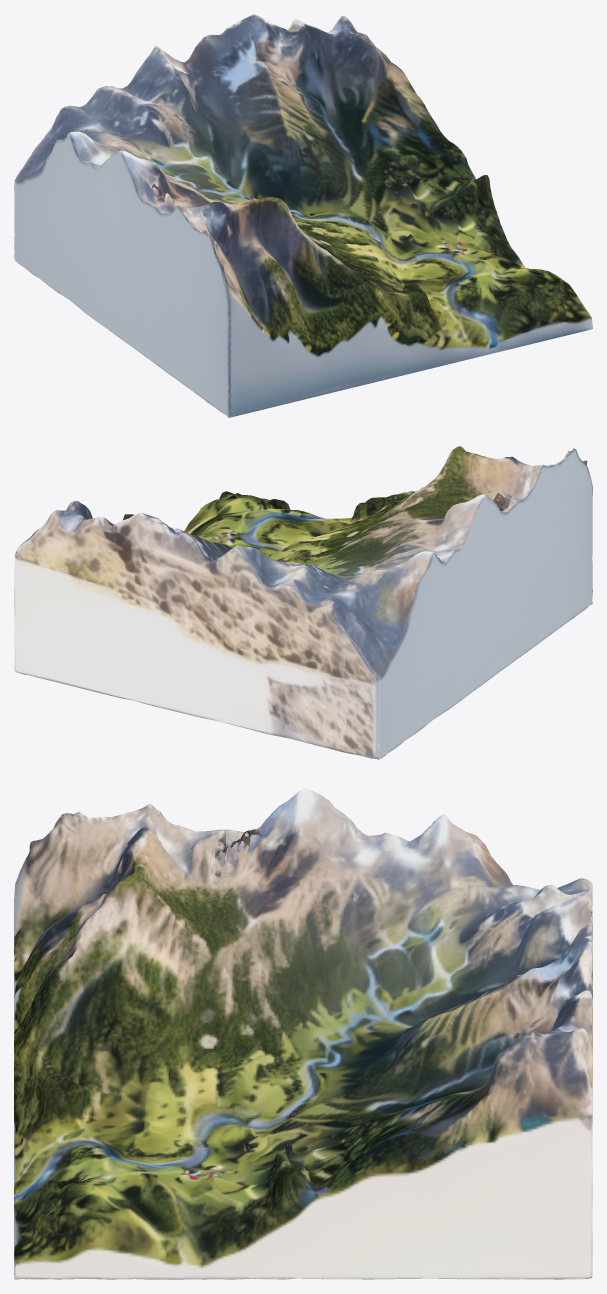
File: base_basic_shaded.fbx
3 views of the same model, one above another, from view 1: azimuth 30°, elevation 25°; view 2: azimuth 150°, elevation 25°; view 3: azimuth 270°, elevation 25° (orthographic). The views are drawn at different scales.
Parts seen in each view (by area): view 1: model; view 2: model; view 3: model.
Part boxes in pixels (x1,y1,x2,y2): model: (14,14,592,417); model: (14,446,592,759); model: (14,788,592,1279).
Size of the model in its own units: 186 by 92.04 by 189.
